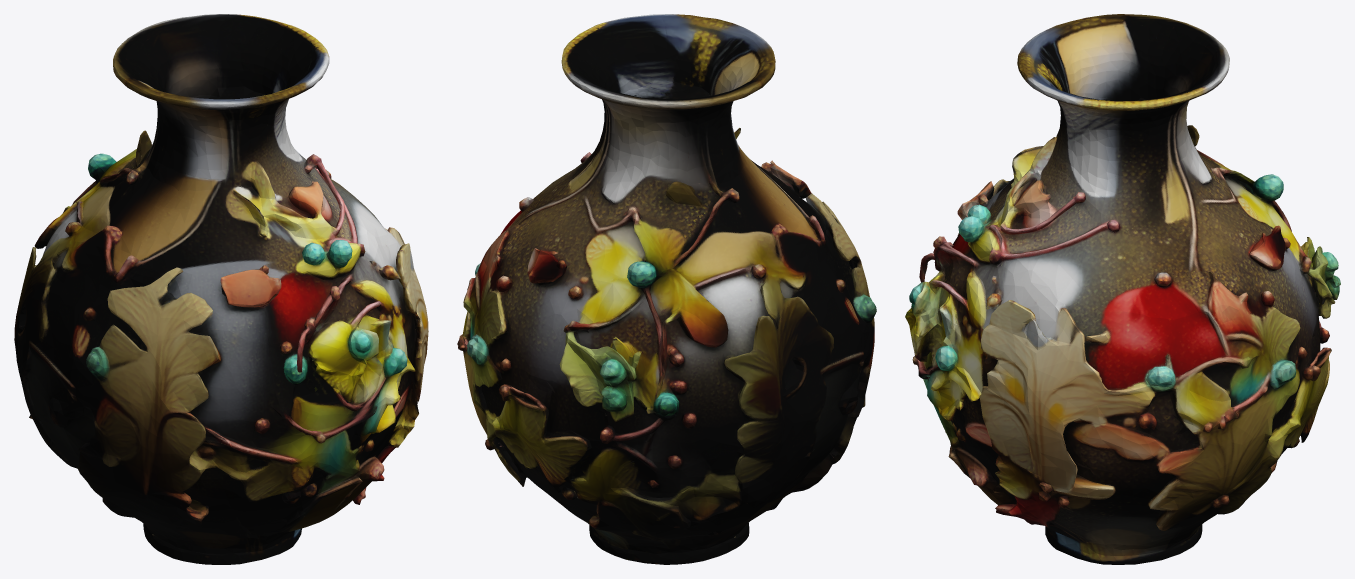
Rendered from ceramic-limited-edition-vase-3d.jpeg.glb.
The picture shows the model from 3 angles, left to right: view 1: azimuth 30°, elevation 25°; view 2: azimuth 150°, elevation 25°; view 3: azimuth 270°, elevation 25°; orthographic projection.
Parts seen in each view (by area): view 1: world; view 2: world; view 3: world.
Part boxes in pixels (x1,y1,x2,y2): world: [14, 14, 428, 564]; world: [457, 14, 876, 564]; world: [905, 14, 1340, 564].
Bounding box in the file's own units: 0.7836 × 1 × 0.8368.
Materials: 1 (1 with a texture image).
